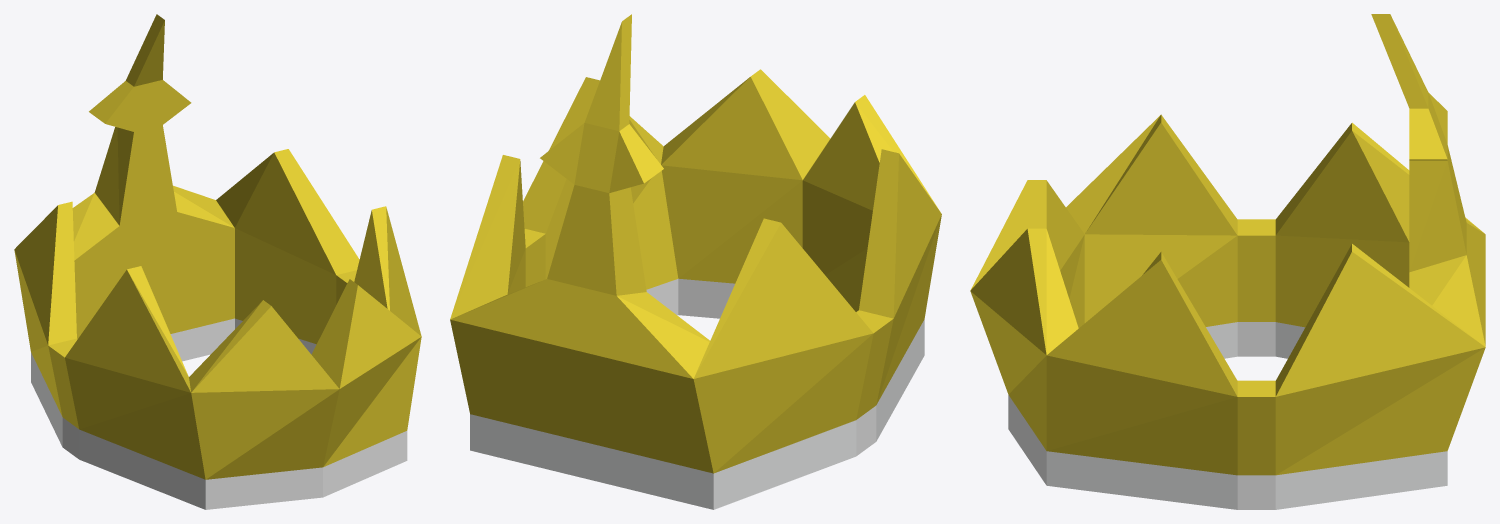
The model's file is npc_world_king_lathas_7.obj.
3 renders of one model, left to right at view 1: azimuth 30°, elevation 25°; view 2: azimuth 150°, elevation 25°; view 3: azimuth 270°, elevation 25°, orthographic. The views are drawn at different scales.
Size of the model in its own units: 0.1719 by 0.1875 by 0.2109.
